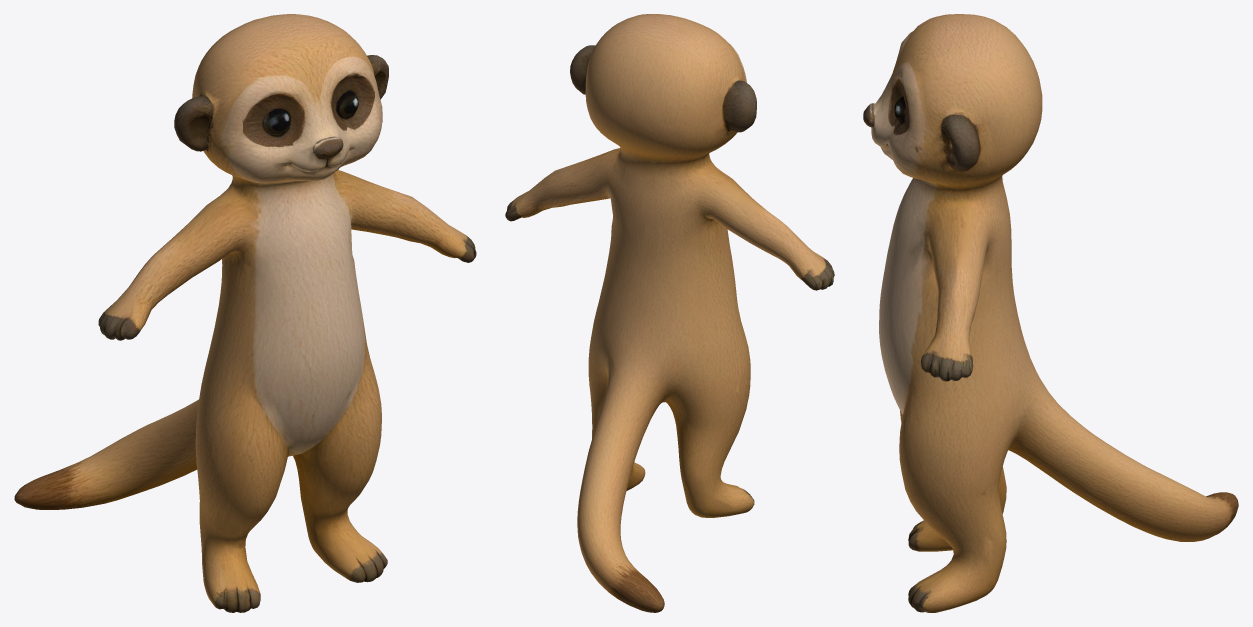
File: suricate_non-rigged.glb
3 views of the same model, side by side, from view 1: azimuth 30°, elevation 25°; view 2: azimuth 150°, elevation 25°; view 3: azimuth 270°, elevation 25° (orthographic). The views are drawn at different scales.
Parts seen in each view (by area): view 1: Suricate_RigReady_10k; view 2: Suricate_RigReady_10k; view 3: Suricate_RigReady_10k.
Part boxes in pixels (x1,y1,x2,y2): Suricate_RigReady_10k: [14, 14, 476, 612]; Suricate_RigReady_10k: [505, 14, 834, 612]; Suricate_RigReady_10k: [863, 14, 1238, 612].
Bounding box in the file's own units: 0.6751 × 0.9692 × 0.5992.
Materials: 1 (1 with a texture image).
